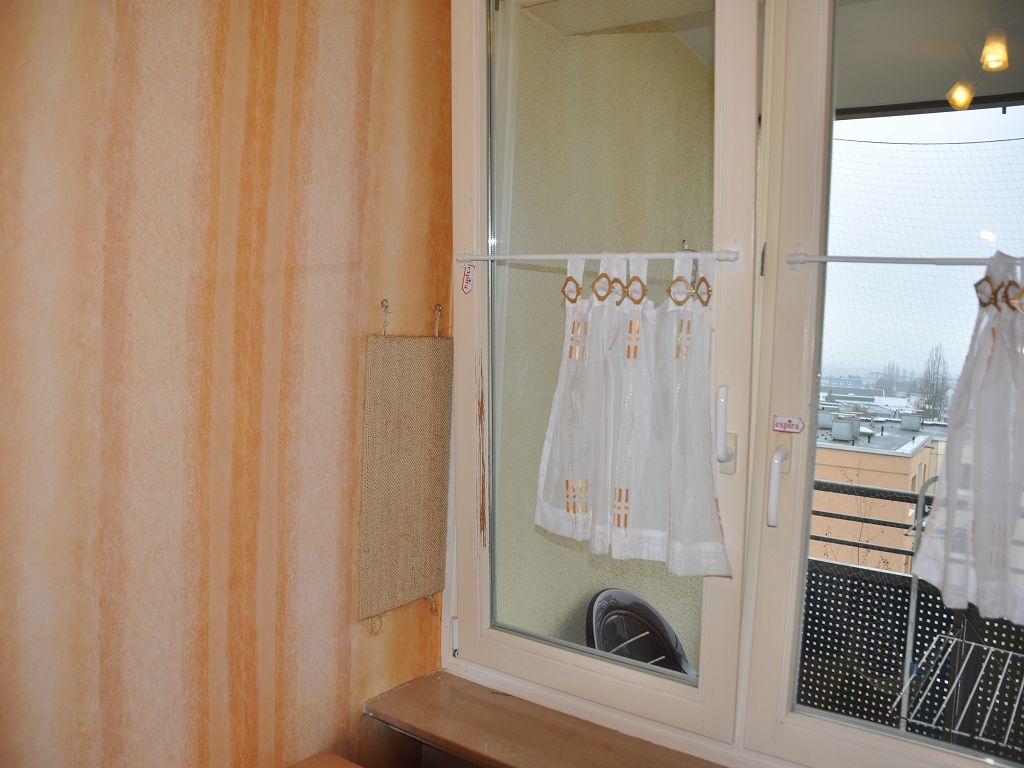windows: (451, 2, 1023, 765)
